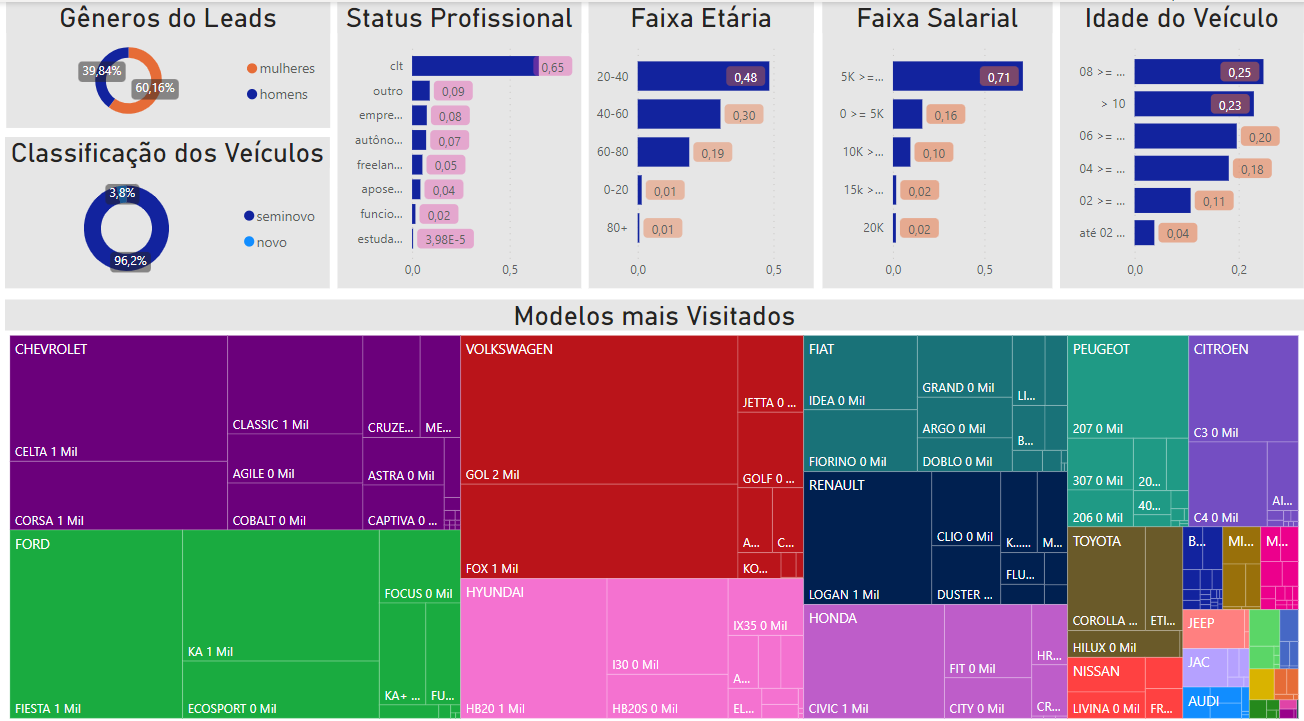

Layout of this report page (visuals, bound fields, positions):
{"tool":"powerbi","page":{"name":"Página 1","canvas":[1280,720],"ordinal":0},"visuals":[{"type":"donutChart","title":"Gêneros do Leads","fields":{"Category":["GENERO_DOS_LEADS.genero"],"Y":["Sum(GENERO_DOS_LEADS.qtd_leads)"]},"box":[11,0,316.6,123.5],"z":0},{"type":"barChart","title":"Status Profissional","fields":{"Y":["Sum(STATUS_PROFISSIONAL_DOS_LEADS.qtd_leads_porcentagem)"],"Category":["STATUS_PROFISSIONAL_DOS_LEADS.status_profissional"]},"box":[334.9,0,238.4,279.9],"z":1000},{"type":"barChart","title":"Faixa Etária","fields":{"Category":["FAIXA_ETARIA_DOS_LEADS.faixa_etaria"],"Y":["Sum(FAIXA_ETARIA_DOS_LEADS.qtd_leads_porcentagem)"]},"box":[580.6,0,220,279.9],"z":2000},{"type":"treemap","title":"Modelos mais Visitados","fields":{"Group":["VEICULOS_VISITADOS_POR_MARCA.brand"],"Details":["VEICULOS_VISITADOS_POR_MARCA.model"],"Values":["Sum(VEICULOS_VISITADOS_POR_MARCA.qtd_visitas)"]},"box":[9.8,290.9,1270.1,414.4],"z":3000},{"type":"donutChart","title":"Classificação dos Veículos","fields":{"Category":["CLASSIFICACAO_DOS_VEICULOS.classificacao_do_veiculo"],"Y":["Sum(CLASSIFICACAO_DOS_VEICULOS.veiculos_visitados)"]},"box":[9.8,132,317.8,147.9],"z":4000},{"type":"barChart","title":"Faixa Salarial","fields":{"Category":["FAIXA_SALARIAL_DOS_LEADS.faixa_salarial"],"Y":["Sum(FAIXA_SALARIAL_DOS_LEADS.qtd_leads_porcentagem)"]},"box":[809.2,0,224.9,279.9],"z":4001},{"type":"barChart","title":"Idade do Veículo","fields":{"Category":["IDADE_DOS_VEICULOS.idade_do_veiculo"],"Y":["Sum(IDADE_DOS_VEICULOS.qtd_veiculos_visitados_porcentagem)"]},"box":[1041.5,0,238.4,279.9],"z":4002}]}

Visuals, with their boxes in screenshot pixels (x1, y1, x2, y2), scaled from the page's 1280x720 canvas onto the 1304x721 screenshot:
"Gêneros do Leads" donutChart: BBox(11, 0, 334, 124)
"Status Profissional" barChart: BBox(341, 0, 584, 280)
"Faixa Etária" barChart: BBox(591, 0, 816, 280)
"Modelos mais Visitados" treemap: BBox(10, 291, 1303, 706)
"Classificação dos Veículos" donutChart: BBox(10, 132, 334, 280)
"Faixa Salarial" barChart: BBox(824, 0, 1053, 280)
"Idade do Veículo" barChart: BBox(1061, 0, 1303, 280)
